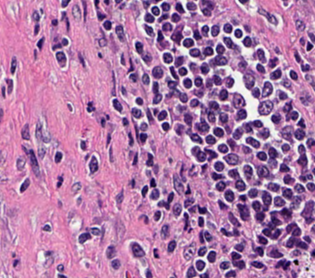nucleus: (27, 150, 39, 177), (173, 175, 183, 194), (302, 201, 313, 218), (258, 101, 272, 114), (237, 204, 248, 219), (232, 94, 244, 107), (224, 153, 238, 164), (115, 25, 124, 41), (244, 74, 254, 88), (246, 137, 259, 147), (229, 213, 239, 226), (56, 52, 65, 66), (263, 82, 272, 96), (262, 192, 271, 206), (72, 5, 80, 20), (152, 66, 162, 78), (112, 99, 122, 111), (198, 119, 208, 131), (89, 157, 97, 172), (117, 222, 124, 239), (282, 126, 291, 139), (244, 165, 252, 179), (259, 8, 269, 19), (171, 32, 181, 43), (215, 55, 226, 65), (205, 148, 216, 158), (257, 166, 268, 176), (256, 49, 265, 61), (78, 233, 90, 242), (36, 122, 42, 139), (271, 69, 281, 79), (235, 180, 245, 190), (190, 134, 202, 142), (298, 154, 306, 166), (161, 225, 168, 238), (144, 25, 153, 35), (223, 37, 232, 47), (237, 109, 246, 119), (259, 128, 268, 138), (295, 129, 304, 139), (196, 151, 205, 161), (283, 188, 292, 198), (274, 197, 284, 206), (281, 208, 290, 218), (286, 223, 296, 232), (291, 226, 300, 236), (233, 128, 241, 139), (268, 183, 279, 191), (150, 188, 158, 199), (225, 190, 233, 201), (173, 204, 181, 215), (170, 67, 177, 79), (145, 13, 154, 22), (163, 53, 172, 62), (132, 108, 141, 117), (206, 135, 215, 144), (296, 20, 304, 30), (183, 38, 193, 46), (216, 44, 224, 54), (225, 77, 233, 87), (219, 89, 227, 99), (269, 148, 277, 158), (228, 169, 238, 177), (72, 182, 80, 192), (272, 214, 280, 224), (116, 191, 122, 204), (37, 37, 44, 48), (187, 1, 195, 10), (243, 37, 251, 46), (175, 56, 183, 65), (269, 58, 277, 67), (213, 75, 221, 84), (194, 77, 202, 86), (183, 78, 191, 87), (179, 93, 187, 102), (153, 94, 161, 103), (209, 101, 218, 109), (158, 111, 166, 120), (271, 115, 280, 123), (214, 128, 223, 136), (218, 144, 227, 152), (257, 152, 266, 160), (214, 162, 223, 170), (284, 175, 293, 183), (216, 182, 225, 190), (294, 184, 303, 192), (252, 201, 260, 210), (272, 229, 280, 238), (258, 236, 267, 244), (286, 238, 294, 247), (32, 11, 39, 21), (211, 25, 218, 35), (135, 42, 142, 52), (189, 49, 199, 56), (201, 63, 208, 73), (184, 114, 191, 124), (176, 124, 183, 134), (158, 201, 168, 208), (221, 228, 231, 235), (168, 241, 175, 251), (82, 1, 86, 18), (38, 147, 44, 158), (146, 154, 152, 165), (212, 173, 223, 179), (204, 47, 212, 55), (143, 54, 151, 62), (179, 67, 187, 75), (249, 189, 257, 197), (176, 3, 183, 12), (252, 88, 259, 97), (87, 102, 94, 111), (284, 103, 291, 112), (220, 113, 227, 122), (253, 120, 262, 127), (244, 123, 251, 132), (184, 199, 193, 206), (90, 228, 99, 235), (204, 232, 211, 241), (142, 74, 148, 84), (147, 110, 152, 122), (208, 112, 214, 122), (228, 139, 234, 149), (55, 152, 61, 162), (161, 3, 169, 10), (202, 8, 210, 15), (172, 13, 179, 21), (159, 14, 167, 21), (103, 21, 110, 29), (163, 23, 171, 30), (224, 24, 231, 32), (257, 64, 264, 72), (290, 71, 297, 79), (168, 81, 176, 88), (190, 99, 198, 106), (291, 111, 298, 119), (282, 144, 289, 152), (280, 164, 288, 171), (307, 183, 314, 191), (218, 201, 226, 208), (256, 213, 264, 220), (79, 54, 84, 65), (153, 82, 158, 93), (57, 176, 62, 187), (202, 26, 208, 35), (140, 133, 146, 142), (167, 193, 173, 202), (154, 211, 160, 220), (157, 31, 162, 41), (142, 186, 147, 196), (152, 7, 159, 14), (99, 39, 106, 46), (129, 74, 136, 81), (283, 80, 290, 87), (279, 92, 286, 99), (140, 123, 147, 130), (162, 123, 169, 130), (243, 146, 250, 153), (192, 147, 199, 154), (43, 224, 50, 231), (61, 0, 69, 6), (235, 29, 241, 37), (298, 119, 304, 127), (128, 133, 132, 145), (307, 138, 313, 146), (298, 145, 304, 153), (184, 213, 187, 229), (262, 229, 270, 235), (198, 217, 203, 226), (194, 31, 200, 38), (199, 207, 206, 213), (34, 24, 38, 34), (295, 53, 300, 61), (206, 79, 211, 87), (80, 141, 85, 149), (150, 179, 155, 187), (143, 1, 149, 7), (98, 13, 104, 19), (309, 33, 313, 42), (136, 98, 142, 104), (304, 236, 310, 242), (62, 38, 67, 45), (307, 43, 312, 50), (53, 44, 60, 49), (302, 65, 309, 70), (52, 19, 57, 25), (133, 154, 136, 164), (233, 229, 238, 235), (121, 87, 125, 94), (121, 55, 124, 64), (200, 233, 203, 242), (240, 195, 245, 200), (123, 118, 127, 124), (186, 186, 189, 194), (101, 119, 104, 126), (107, 135, 109, 144), (94, 1, 98, 5), (190, 207, 194, 211), (154, 109, 157, 113), (307, 175, 311, 178), (131, 180, 133, 186)
